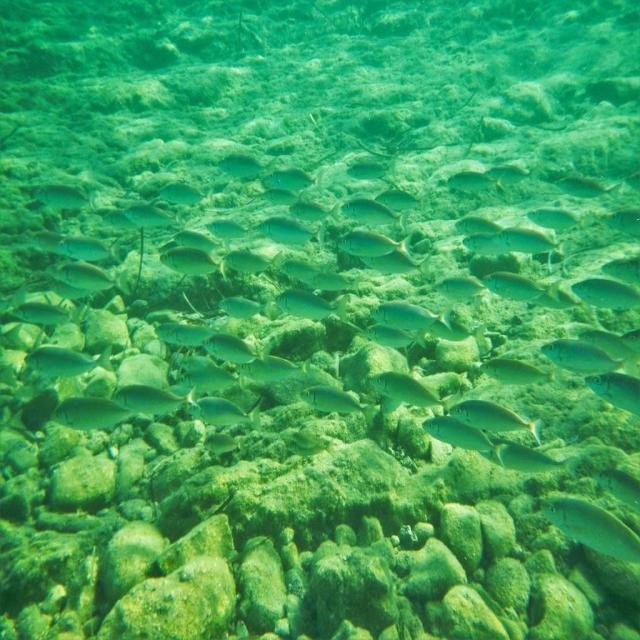Sokar Baligi: (480, 266, 568, 314), (107, 378, 205, 418), (333, 226, 425, 268)
